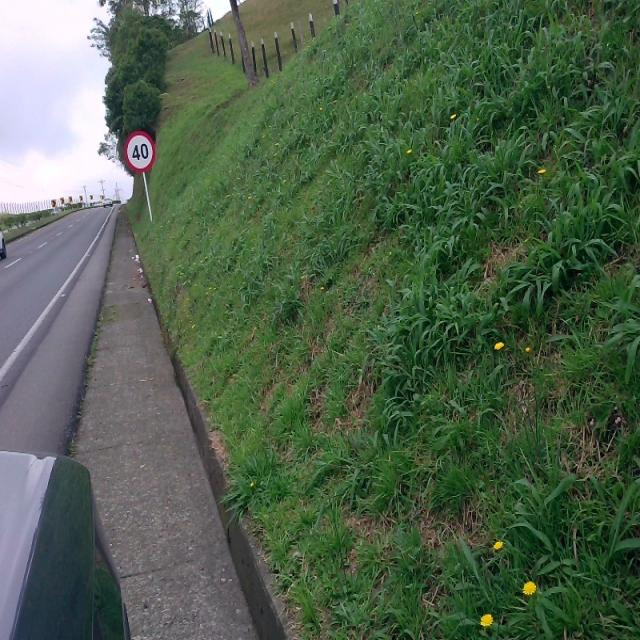DITCH: (66, 200, 289, 638)
